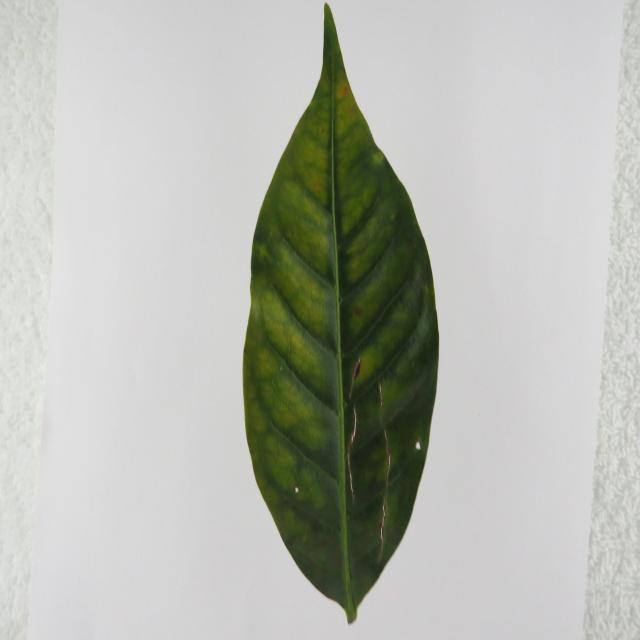DeficienciaNutricional-Magnesio: (242, 5, 439, 623)
